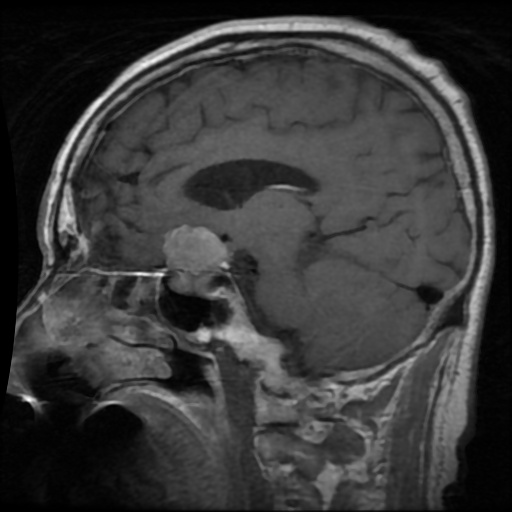pituitary: (164, 224, 229, 292)
